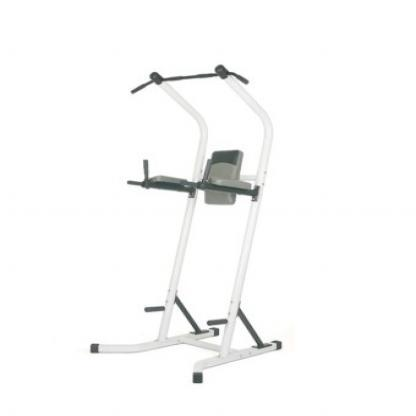chinning dipping: (90, 64, 284, 383)
